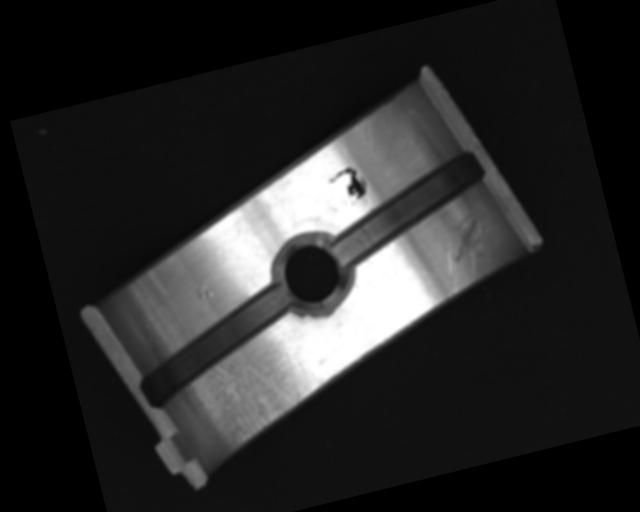blot: (325, 163, 371, 208)
bruise: (190, 280, 215, 302)
gap: (124, 279, 313, 412), (320, 146, 499, 266)
hole: (265, 229, 356, 317)
nick: (431, 207, 497, 295)
scratch: (179, 336, 333, 452)
